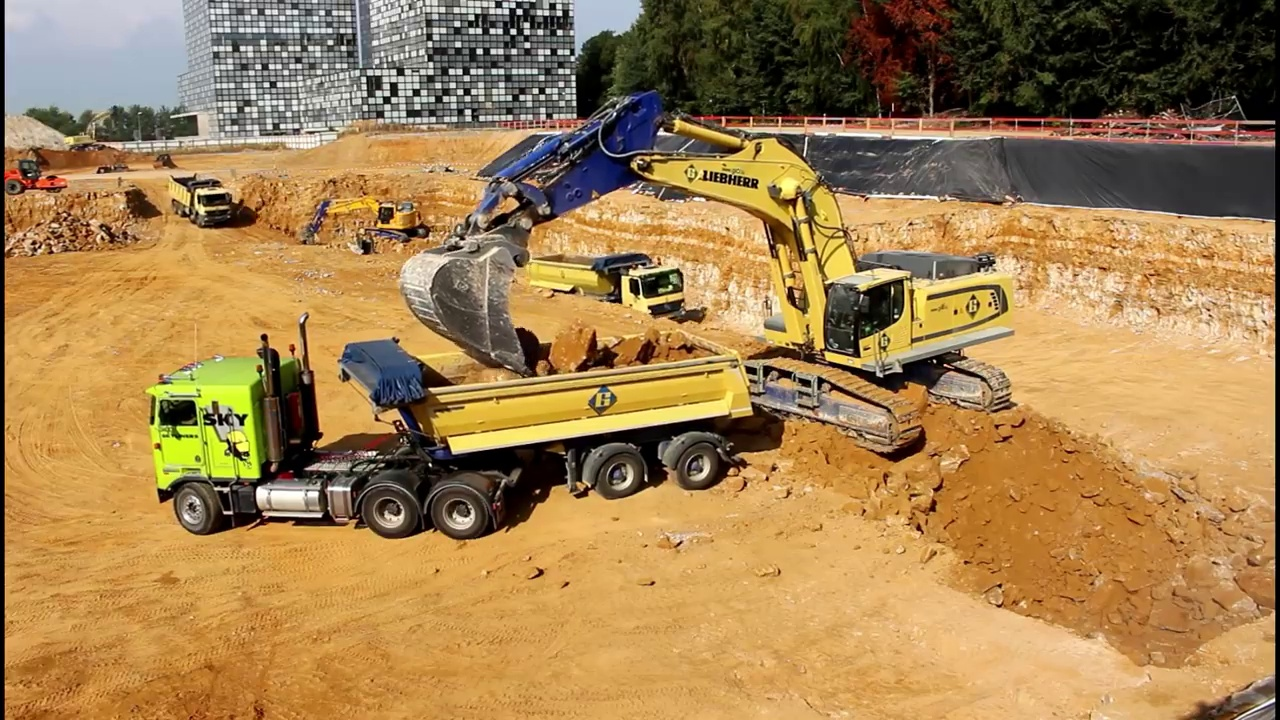compactor: (4, 157, 73, 198)
excavator: (399, 88, 1023, 459), (291, 195, 430, 257), (64, 107, 123, 155)
truck: (137, 310, 760, 543), (521, 245, 690, 347), (163, 165, 240, 233)
